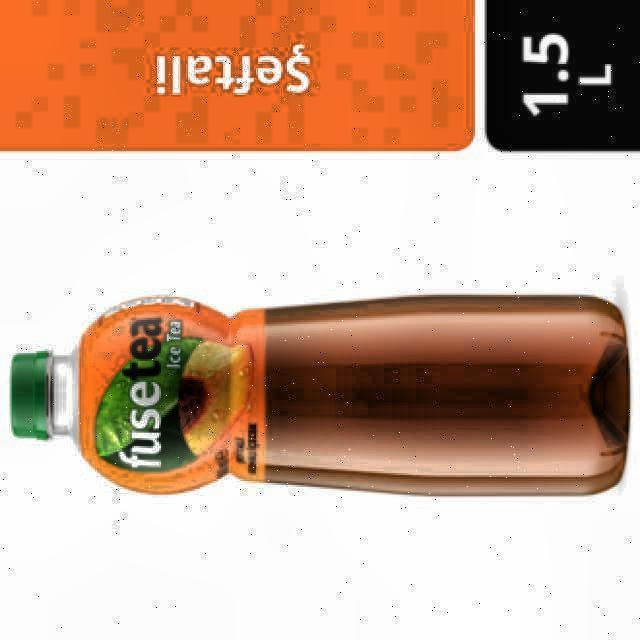plastic: (12, 296, 629, 494)
